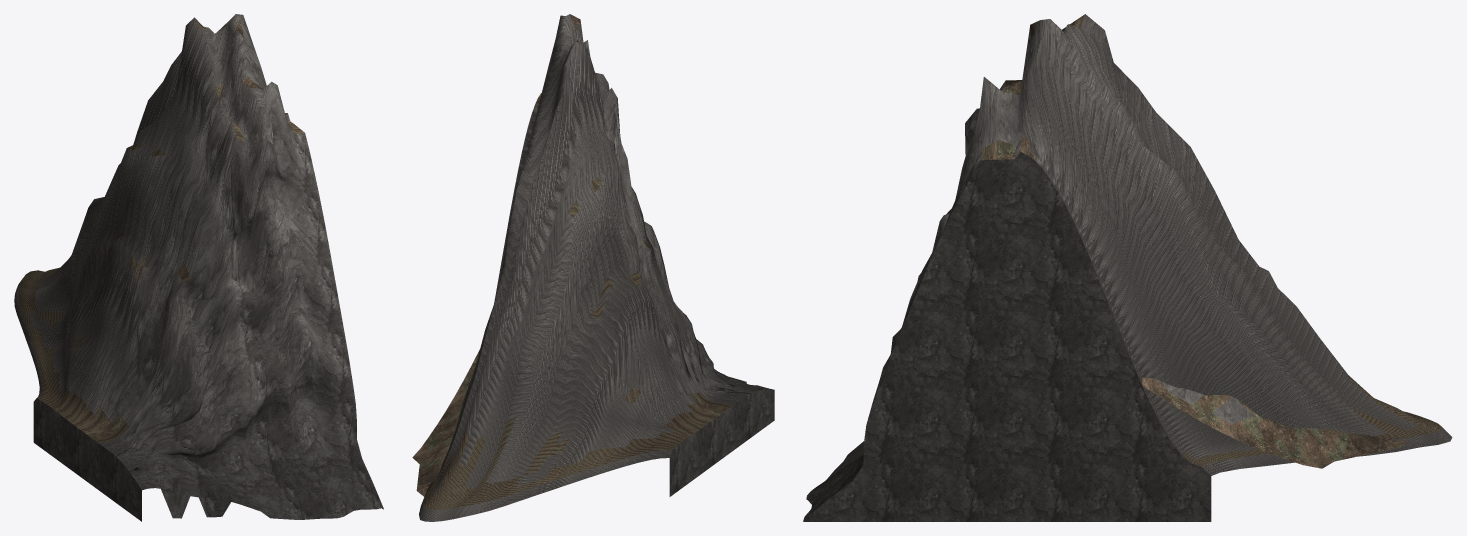
The model's file is seacliff_endcap_left_h8_b_v5_autumn.glb.
The picture shows the model from 3 angles, left to right: view 1: azimuth 30°, elevation 25°; view 2: azimuth 150°, elevation 25°; view 3: azimuth 270°, elevation 25°; orthographic projection. The views are drawn at different scales.
Parts seen in each view (by area): view 1: seacliff_endcap_left_h8_b; view 2: seacliff_endcap_left_h8_b; view 3: seacliff_endcap_left_h8_b.
Part boxes in pixels (<box>): seacliff_endcap_left_h8_b: <box>14,14,383,521</box>; seacliff_endcap_left_h8_b: <box>412,14,774,521</box>; seacliff_endcap_left_h8_b: <box>803,14,1452,521</box>.
Size of the model in its own units: 6 by 12.59 by 15.37.
Materials: 2 (2 with a texture image).
